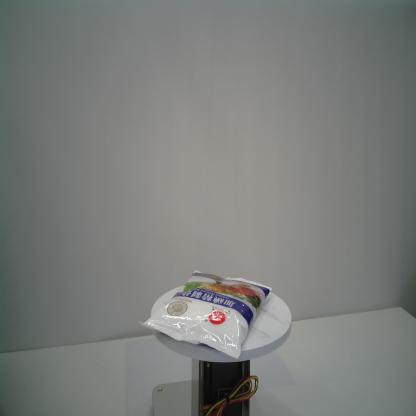Seasoner: (137, 270, 273, 359)
